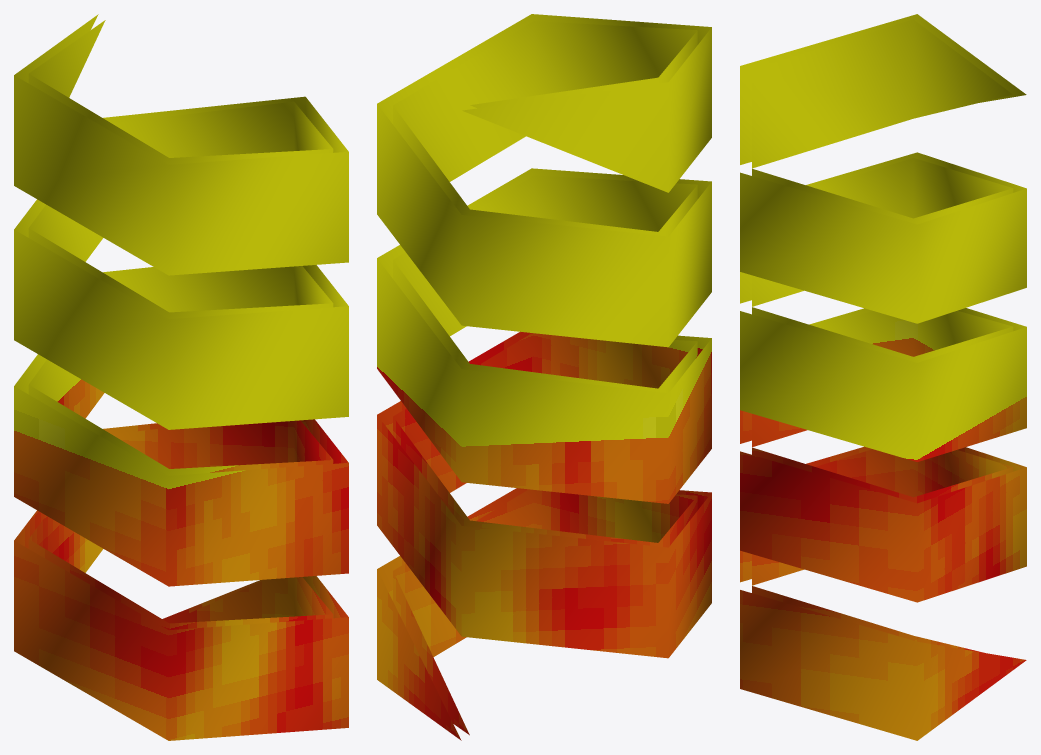
File: Spiral.glb
The picture shows the model from 3 angles, left to right: view 1: azimuth 30°, elevation 25°; view 2: azimuth 150°, elevation 25°; view 3: azimuth 270°, elevation 25°; orthographic projection. The views are drawn at different scales.
Visible parts, largest first — view 1: Spiral; view 2: Spiral; view 3: Spiral.
Boxes of the visible parts, <box> form: Spiral: <box>14,14,348,740</box>; Spiral: <box>377,14,711,740</box>; Spiral: <box>740,14,1026,740</box>.
Size of the model in its own units: 12.66 by 27.75 by 12.04.
1 material, 1 textured.
